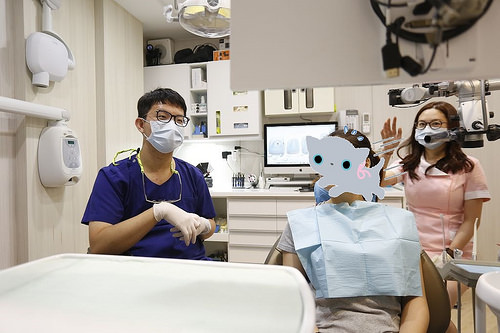mask: (147, 120, 185, 152), (415, 129, 447, 149)
